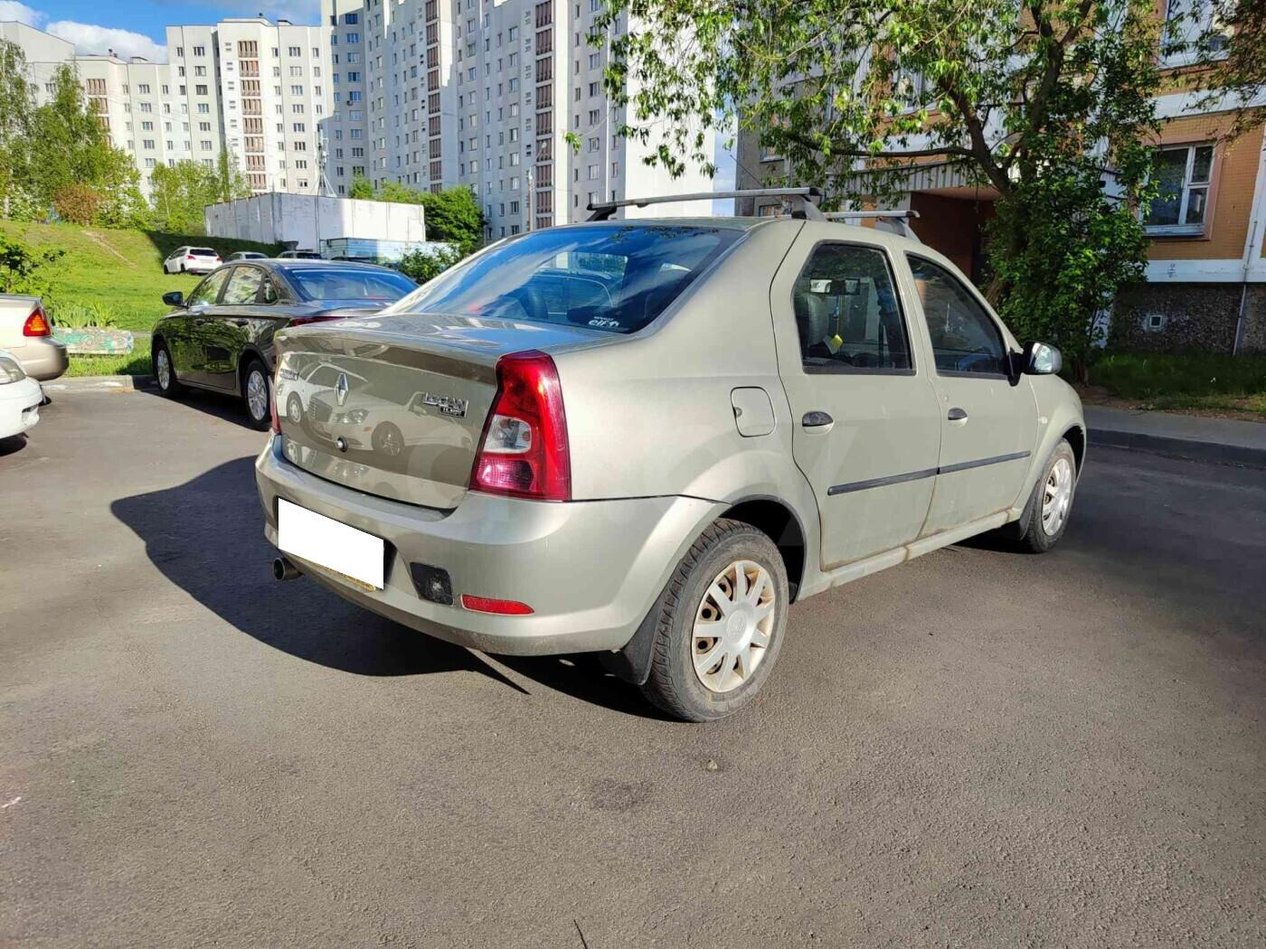Logan_2008-2015: (251, 204, 1093, 730)
